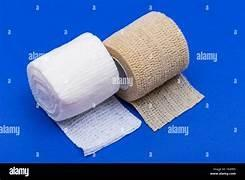cotton: (27, 33, 140, 154), (104, 12, 202, 129), (27, 33, 119, 120), (57, 96, 140, 155)
